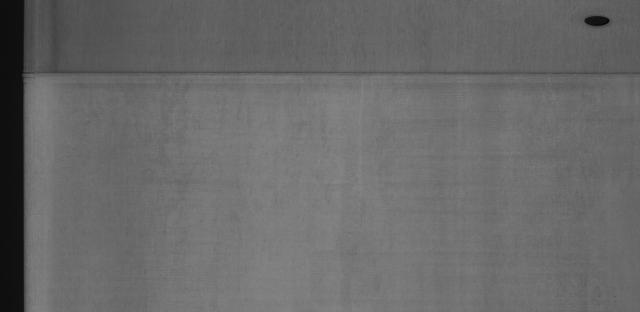punching_hole: (577, 11, 614, 33)
welding_line: (8, 62, 637, 84)
